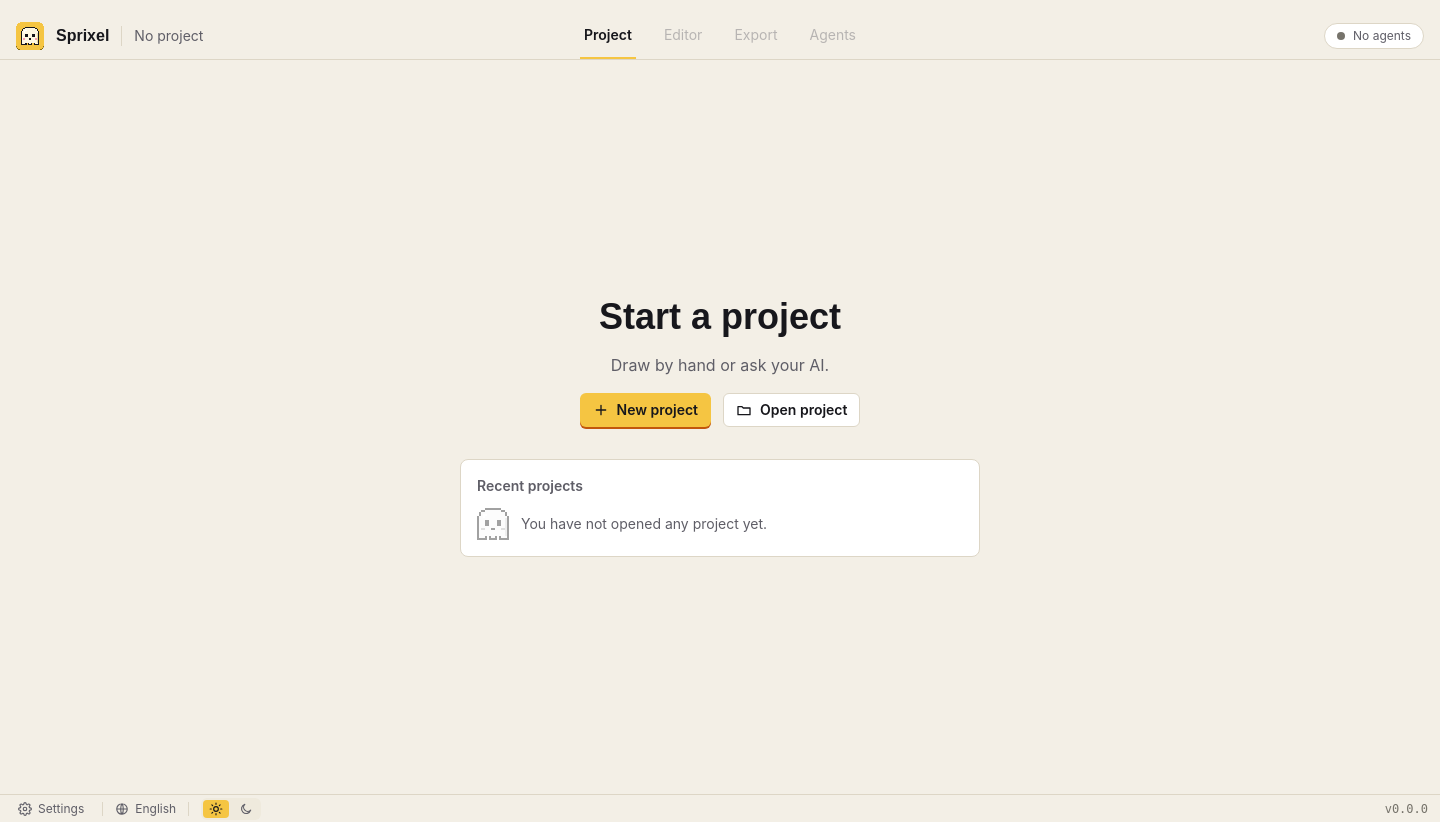
Test: Project tab in the app › shows the shortcuts of the commands in the menu of a card
Click the button "Open project".
click(792, 410)  # box [723, 393, 860, 427]
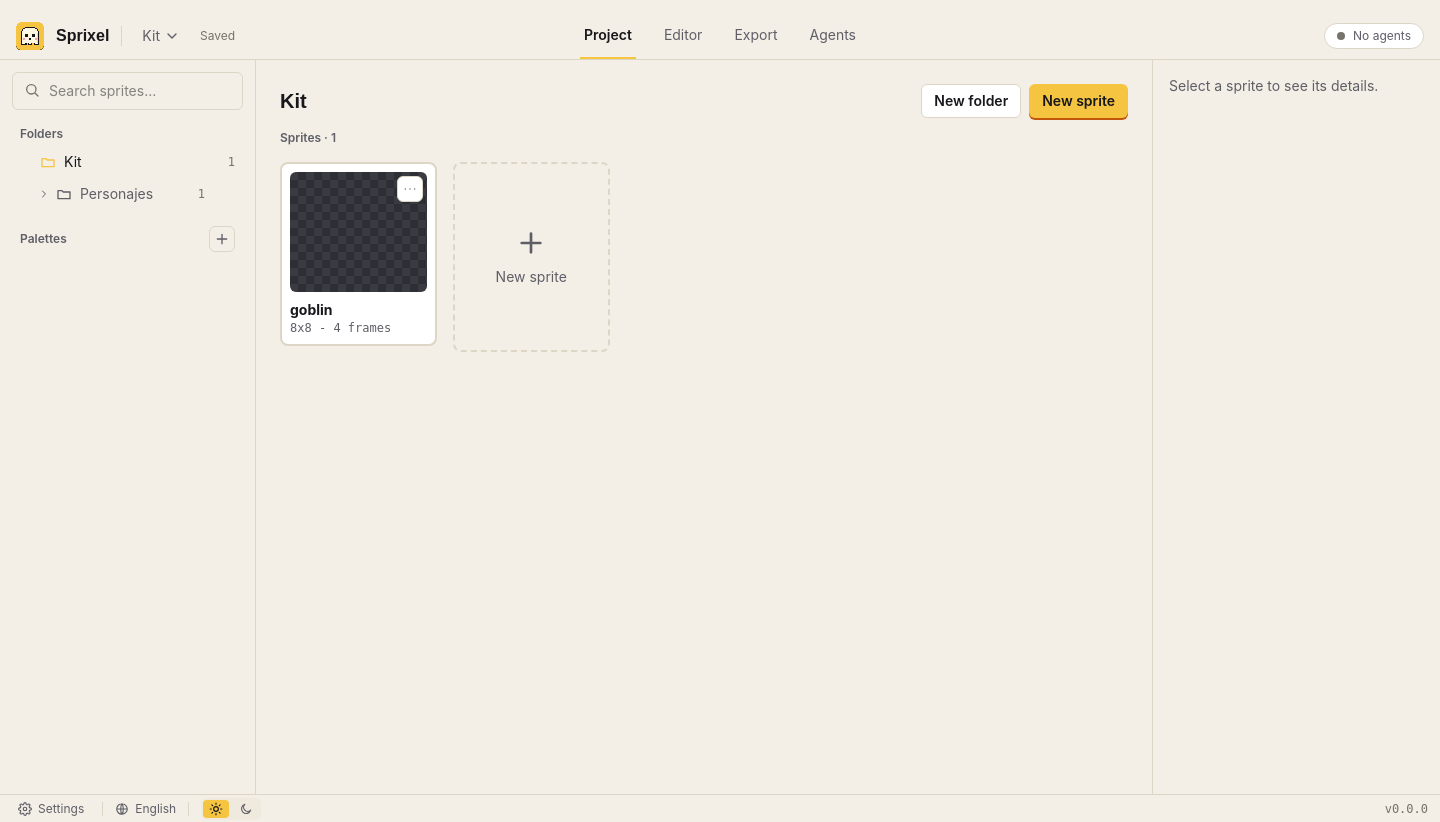
Click the button "Personajes 1".
click(130, 194)  # box [56, 178, 205, 210]
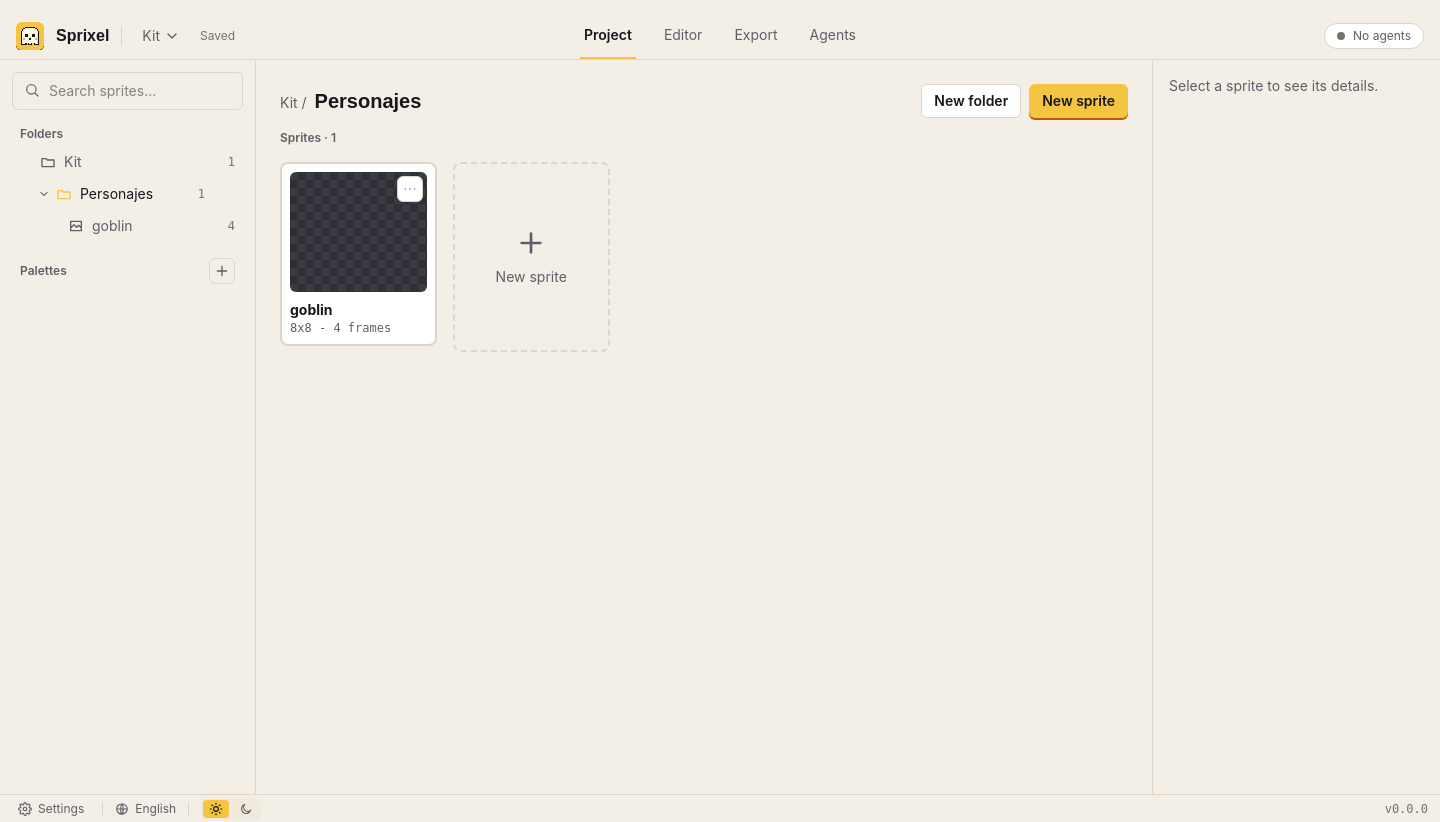
Expected: the button "goblin 8x8 - 4 frames" is shown, [290, 172, 427, 336]
Click the button named "More actions for goblin".
click(410, 189)  # box [397, 176, 423, 202]
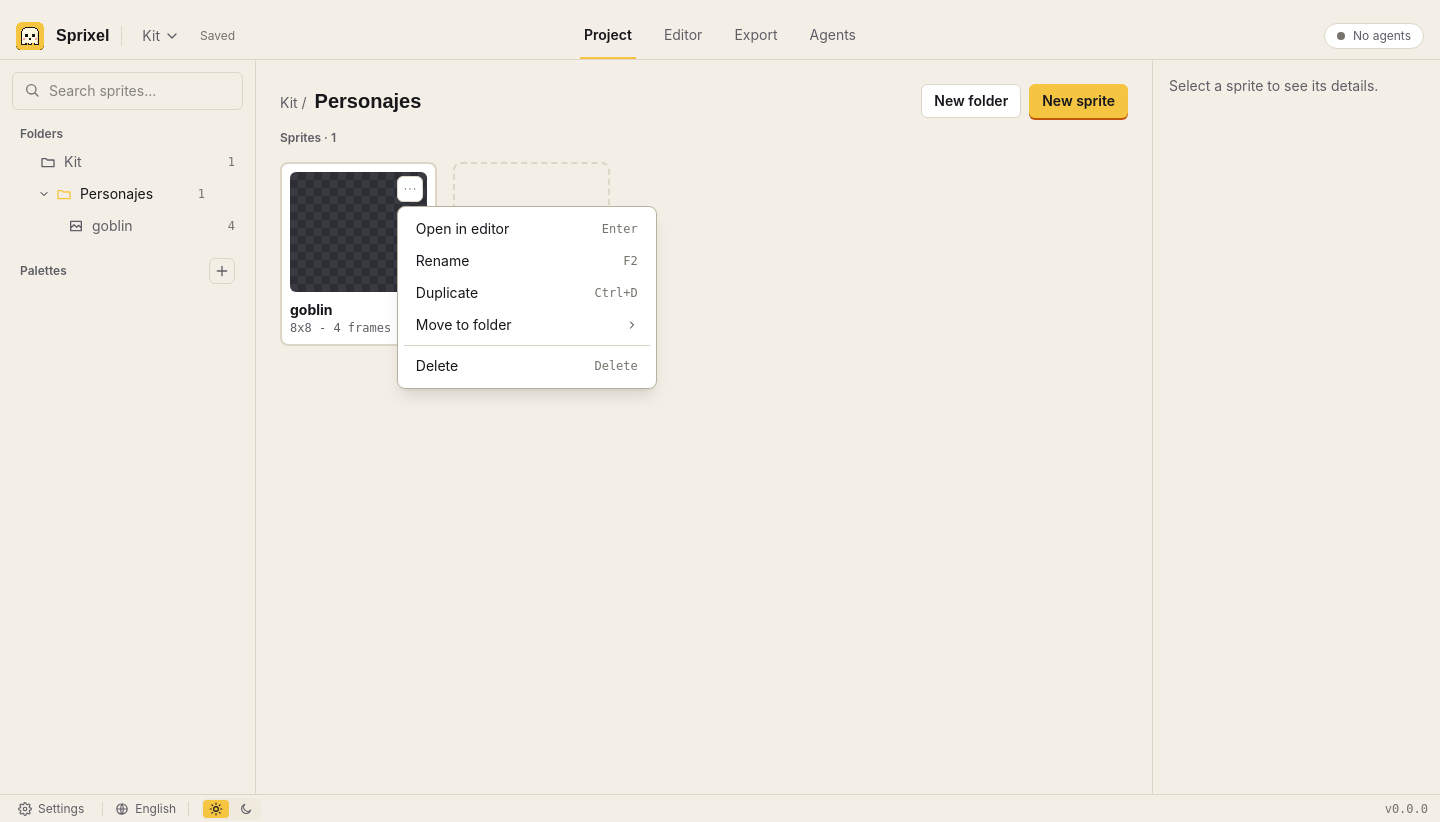
Expected: the 1st text "Delete" is shown, [416, 356, 458, 376]
